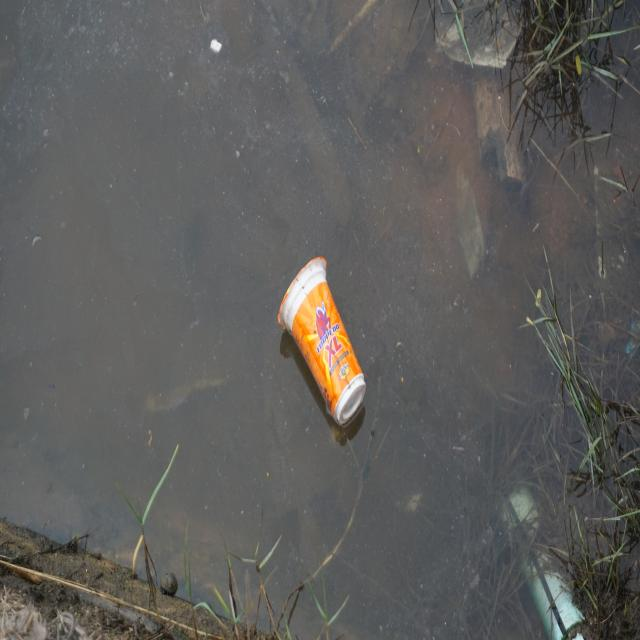Bungkus Minuman: (278, 248, 372, 434)
